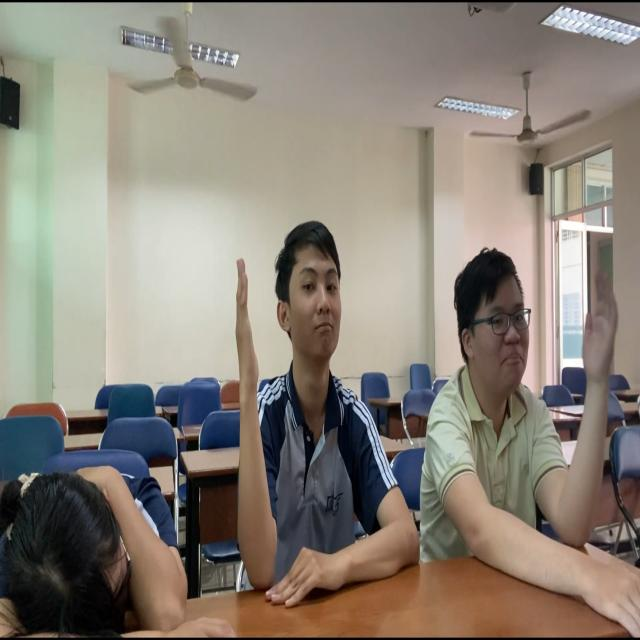raise_hand: (423, 227, 640, 640), (230, 215, 381, 617)
sleep: (1, 442, 249, 640)
